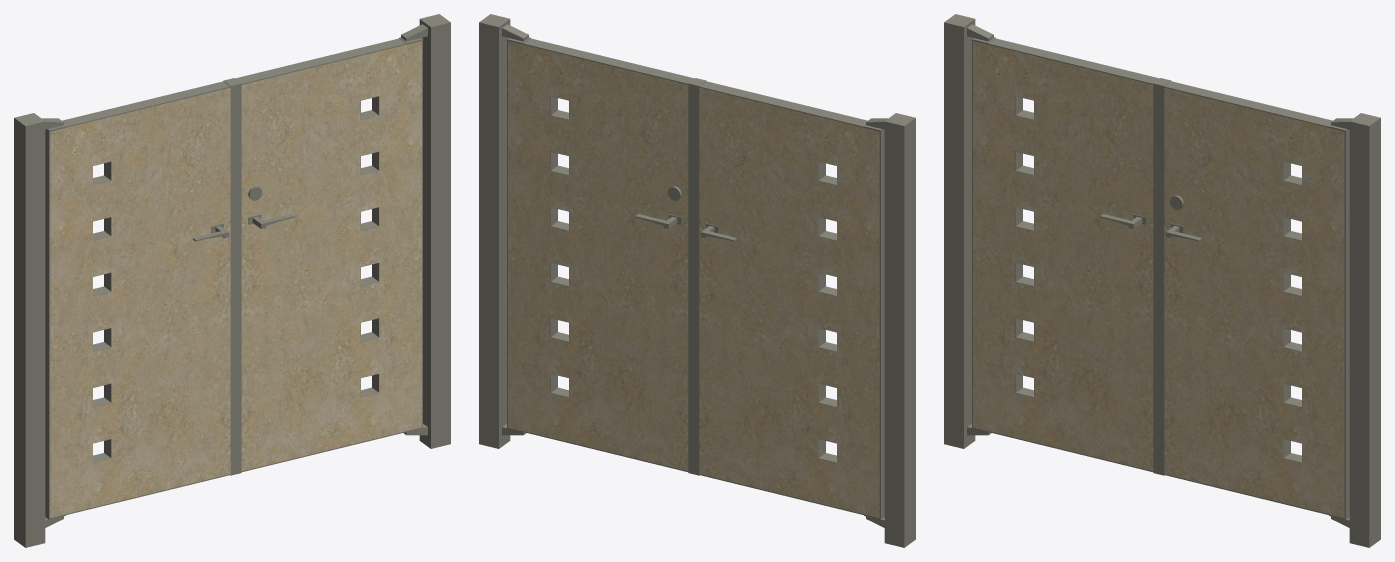
File: abmonpi-komado_h1400-w1400_travartine.fbx
3 views of the same model, side by side, from view 1: azimuth 30°, elevation 25°; view 2: azimuth 150°, elevation 25°; view 3: azimuth 330°, elevation 25° (orthographic).
Parts seen in each view (by area): view 1: abmonpi-komado_h1400-w1400_rustycopper.005; view 2: abmonpi-komado_h1400-w1400_rustycopper.005; view 3: abmonpi-komado_h1400-w1400_rustycopper.005.
Part boxes in pixels (x1,y1,x2,y2): abmonpi-komado_h1400-w1400_rustycopper.005: (14,14,450,547); abmonpi-komado_h1400-w1400_rustycopper.005: (479,14,915,547); abmonpi-komado_h1400-w1400_rustycopper.005: (944,14,1380,547).
Bounding box in the file's own units: 160 × 152 × 16.7.
Materials: 2 (2 with a texture image).
